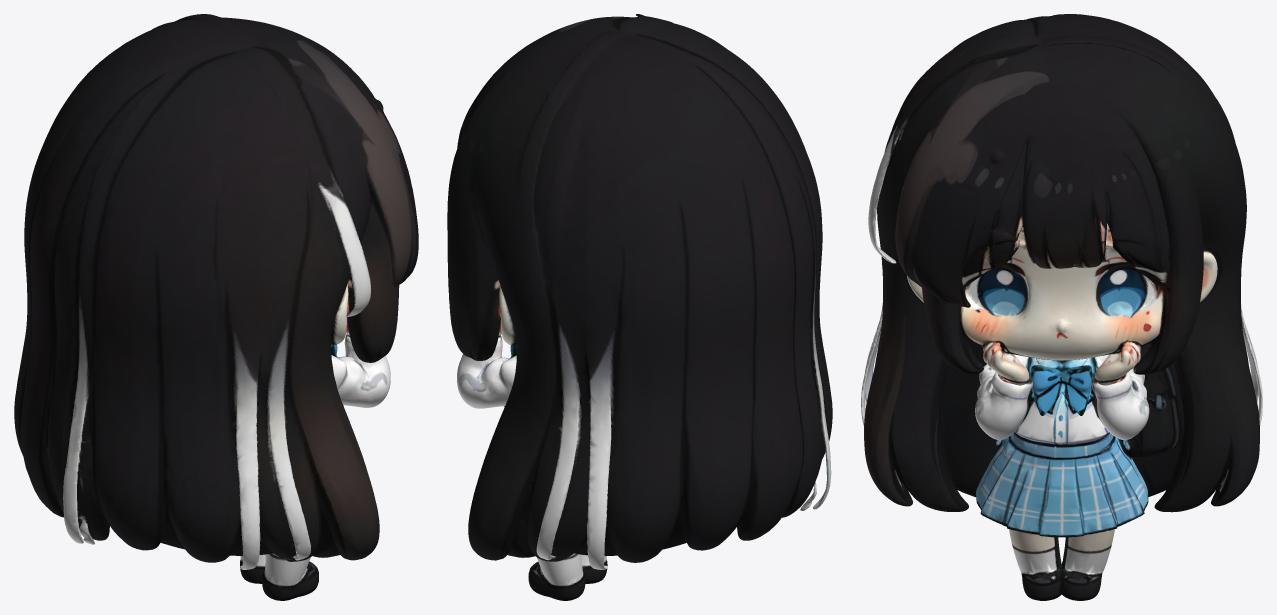
Rendered from campus-girl.glb.
3 renders of one model, left to right at view 1: azimuth 30°, elevation 25°; view 2: azimuth 150°, elevation 25°; view 3: azimuth 270°, elevation 25°, orthographic. The views are drawn at different scales.
Visible parts, largest first — view 1: tripo_node_abdddf89-68cc-4fd8-afe3-e97b6d8f88d4; view 2: tripo_node_abdddf89-68cc-4fd8-afe3-e97b6d8f88d4; view 3: tripo_node_abdddf89-68cc-4fd8-afe3-e97b6d8f88d4.
Boxes of the visible parts, x1=… form: tripo_node_abdddf89-68cc-4fd8-afe3-e97b6d8f88d4: x1=14, y1=14, x2=418, y2=600; tripo_node_abdddf89-68cc-4fd8-afe3-e97b6d8f88d4: x1=447, y1=14, x2=832, y2=600; tripo_node_abdddf89-68cc-4fd8-afe3-e97b6d8f88d4: x1=861, y1=14, x2=1262, y2=600.
Size of the model in its own units: 0.6209 by 1 by 0.6806.
Materials: 1 (1 with a texture image).
